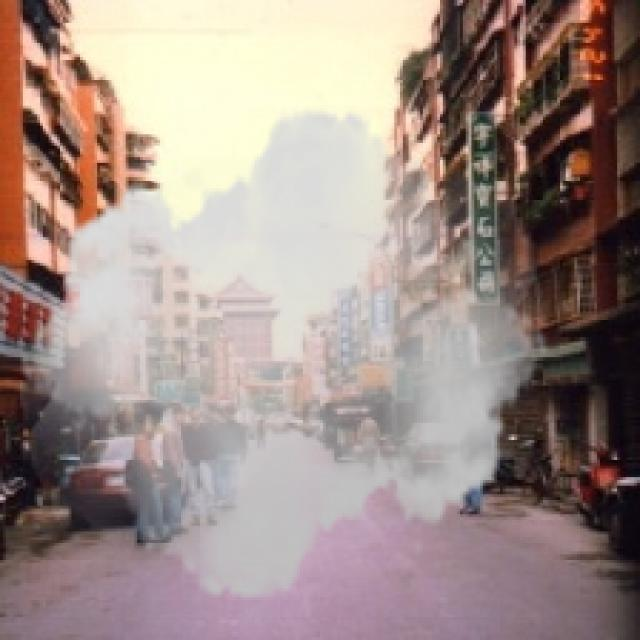Smoke: (20, 89, 549, 620)
